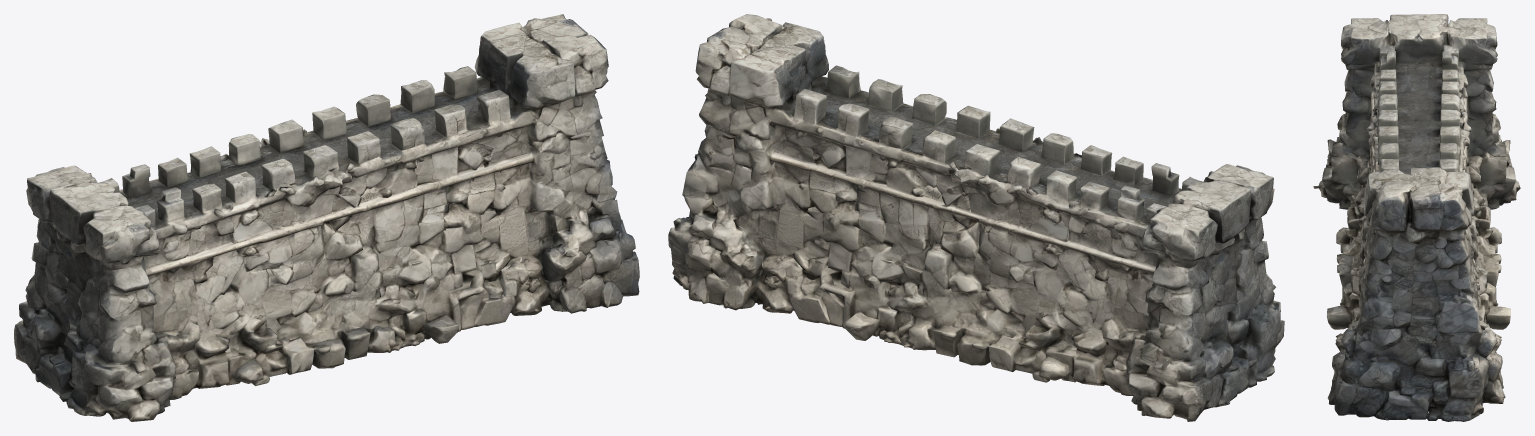
Rendered from fort_quarry_wall.glb.
3 renders of one model, left to right at view 1: azimuth 30°, elevation 25°; view 2: azimuth 150°, elevation 25°; view 3: azimuth 270°, elevation 25°, orthographic. The views are drawn at different scales.
Parts seen in each view (by area): view 1: tripo_node_8c74461d-a09d-46ad-9a81-c331023e75ff; view 2: tripo_node_8c74461d-a09d-46ad-9a81-c331023e75ff; view 3: tripo_node_8c74461d-a09d-46ad-9a81-c331023e75ff.
Part boxes in pixels (left/top/right/bottom): tripo_node_8c74461d-a09d-46ad-9a81-c331023e75ff: left=14, top=14, right=639, bottom=421; tripo_node_8c74461d-a09d-46ad-9a81-c331023e75ff: left=668, top=14, right=1284, bottom=421; tripo_node_8c74461d-a09d-46ad-9a81-c331023e75ff: left=1313, top=14, right=1520, bottom=421.
Size of the model in its own units: 1 by 0.4131 by 0.3601.
Materials: 1 (1 with a texture image).
